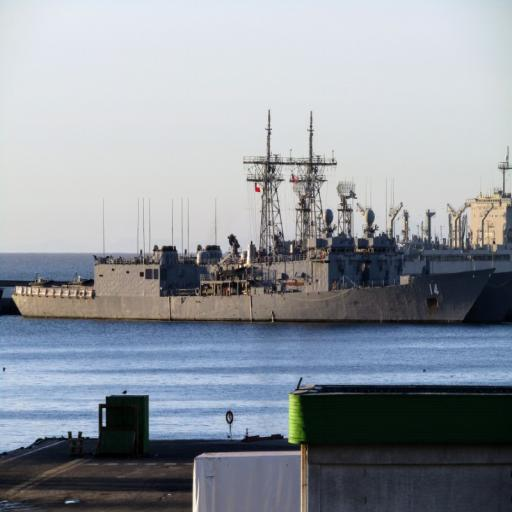Fragata: (11, 103, 501, 324)
